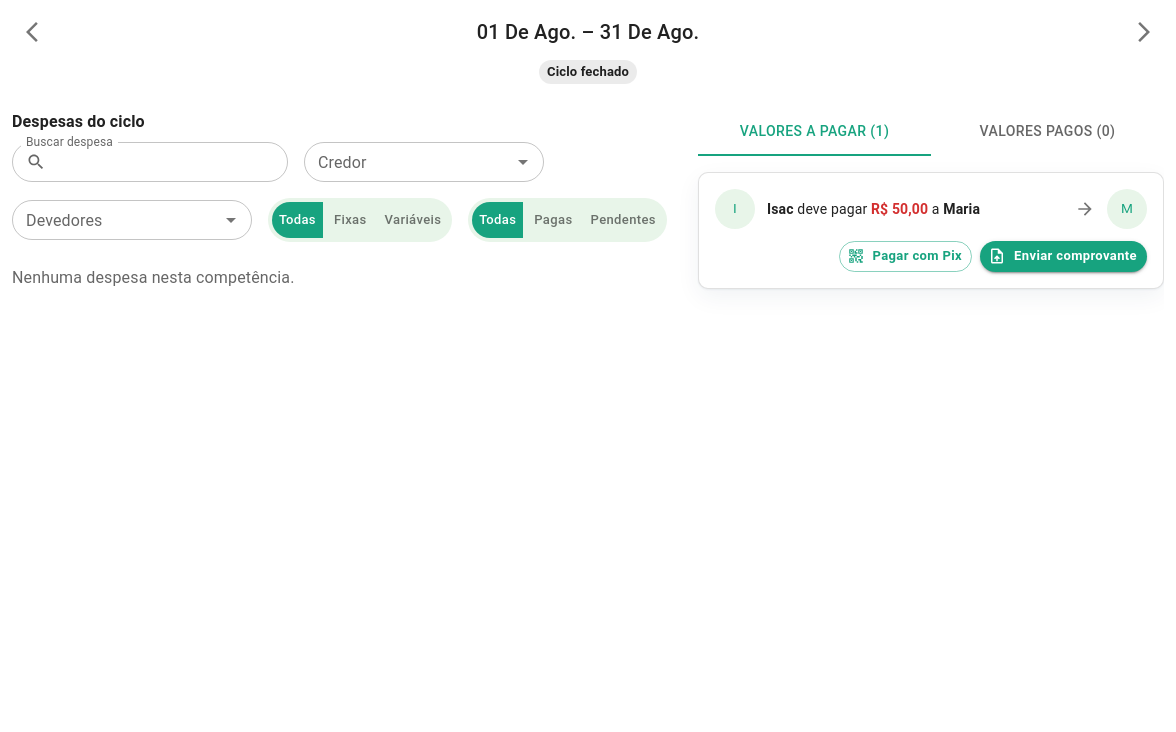
Test: Payments › warns instead of opening the dialog when the creditor has no Pix key
Click the button "Pagar com Pix": (905, 256) top-left (838, 241), bottom-right (972, 272)
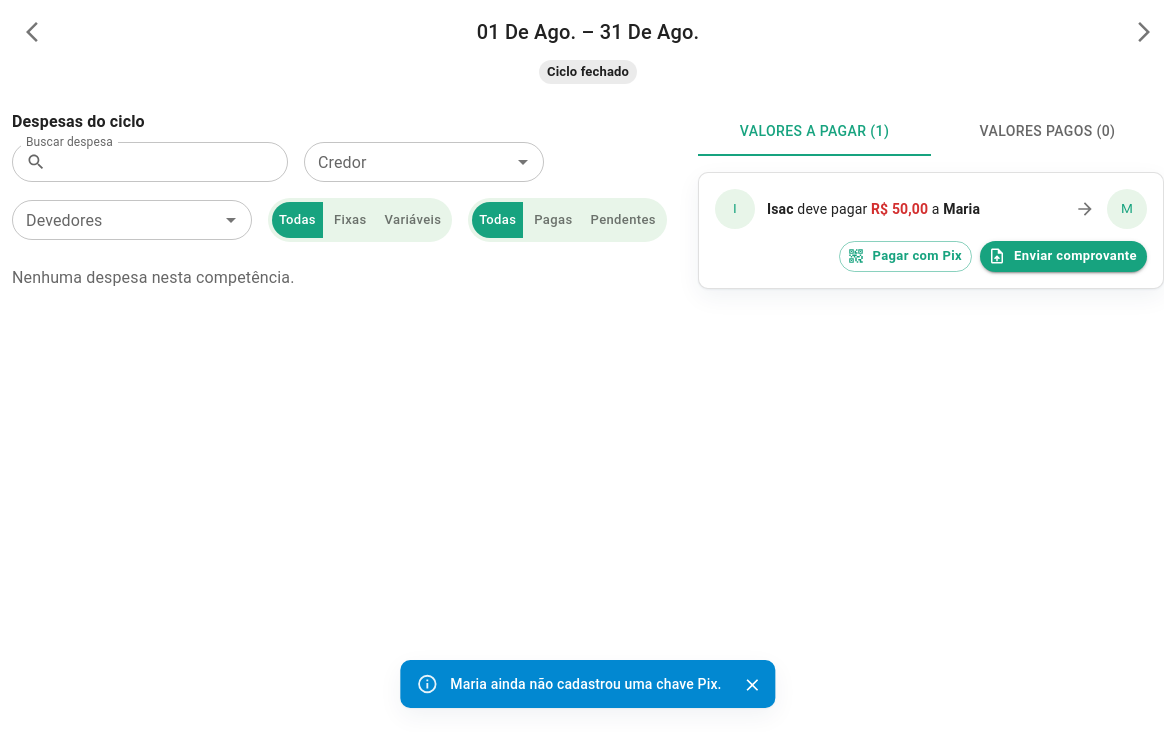
Check: the text "Maria ainda não cadastrou uma chave Pix." is shown, box top-left (450, 676), bottom-right (722, 692)
